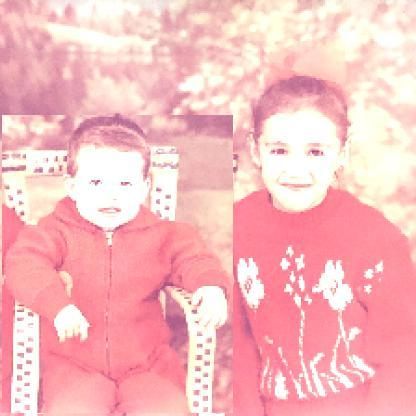child: (3, 116, 235, 415)
